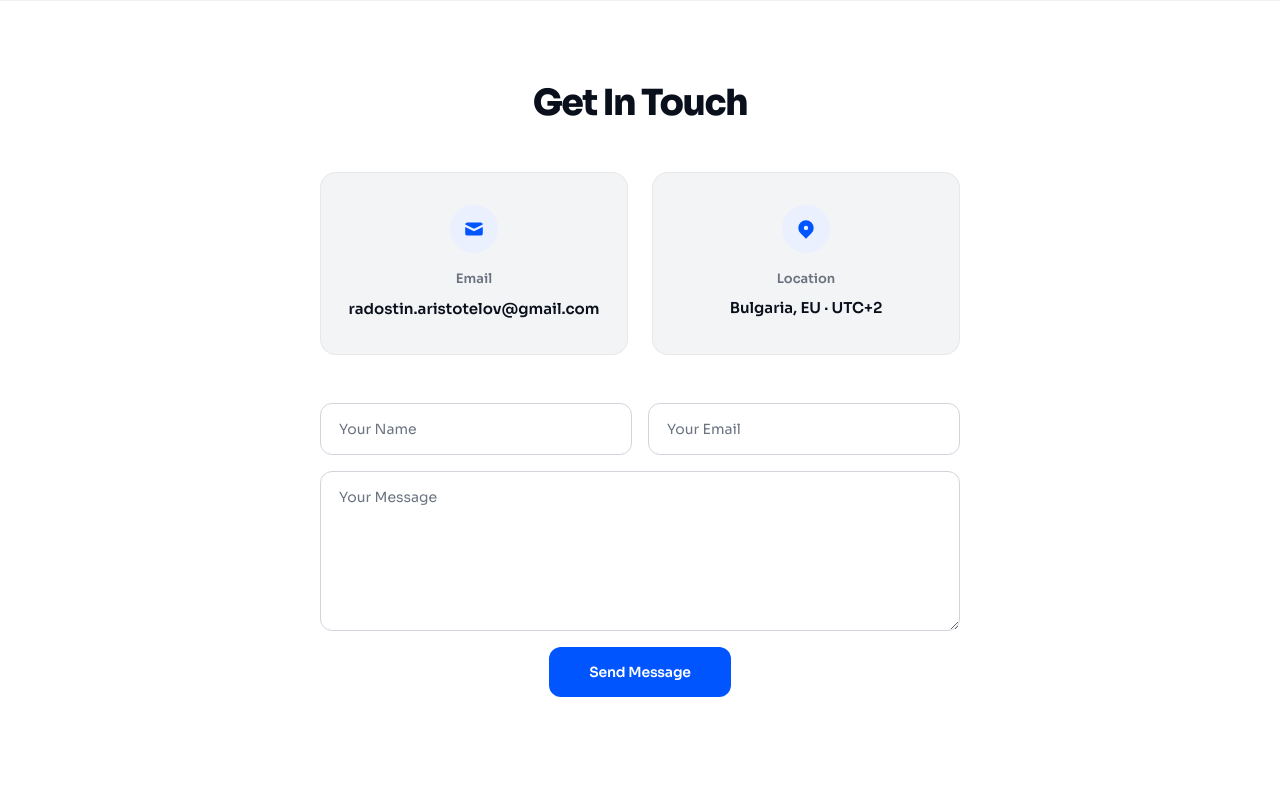
it: Contact form › valid submission › clears the success alert when the message is edited
Type "Ada Lovelace" into the field labelled "Your Name" at [476, 429], box [320,403,632,455]
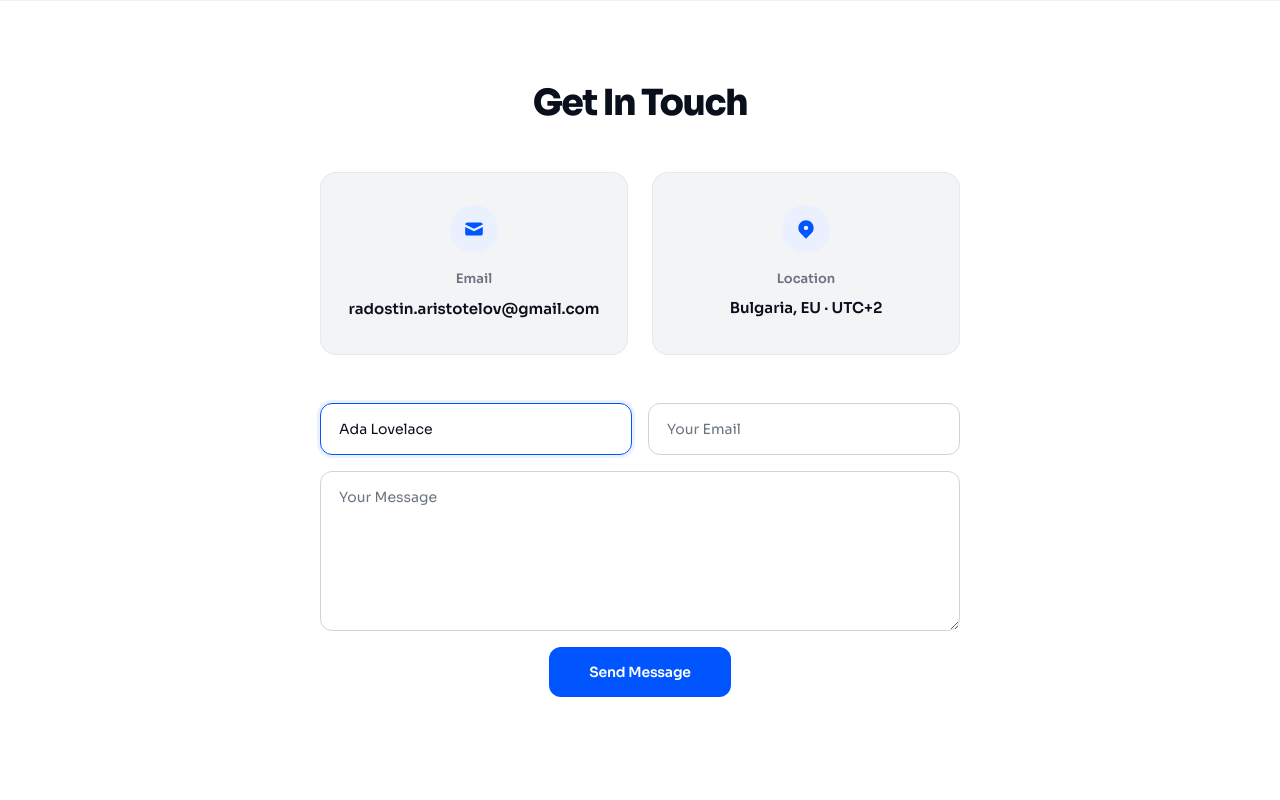
Type "ada@example.com" into the field labelled "Your Email" at [804, 429], box [648,403,960,455]
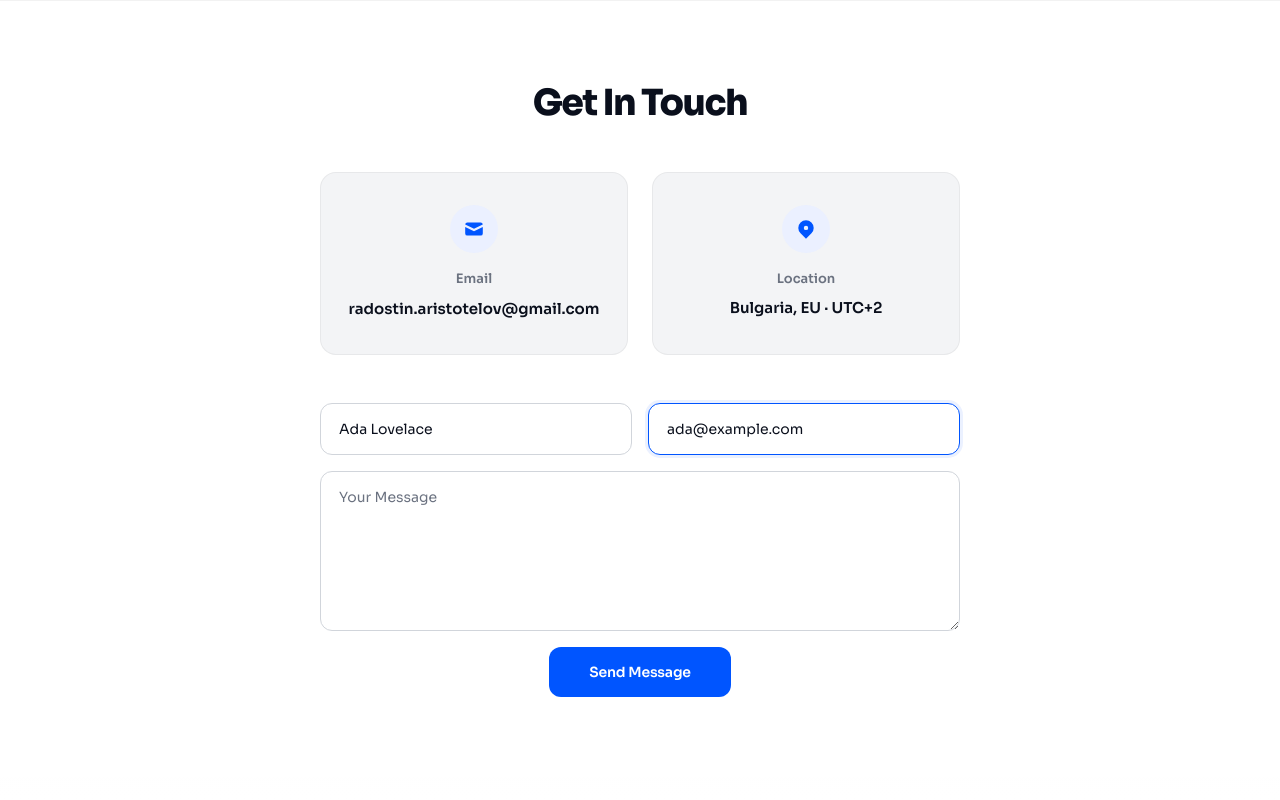
Type "Hello there" into the text box labelled "Your Message" at [640, 551], box [320,471,960,631]
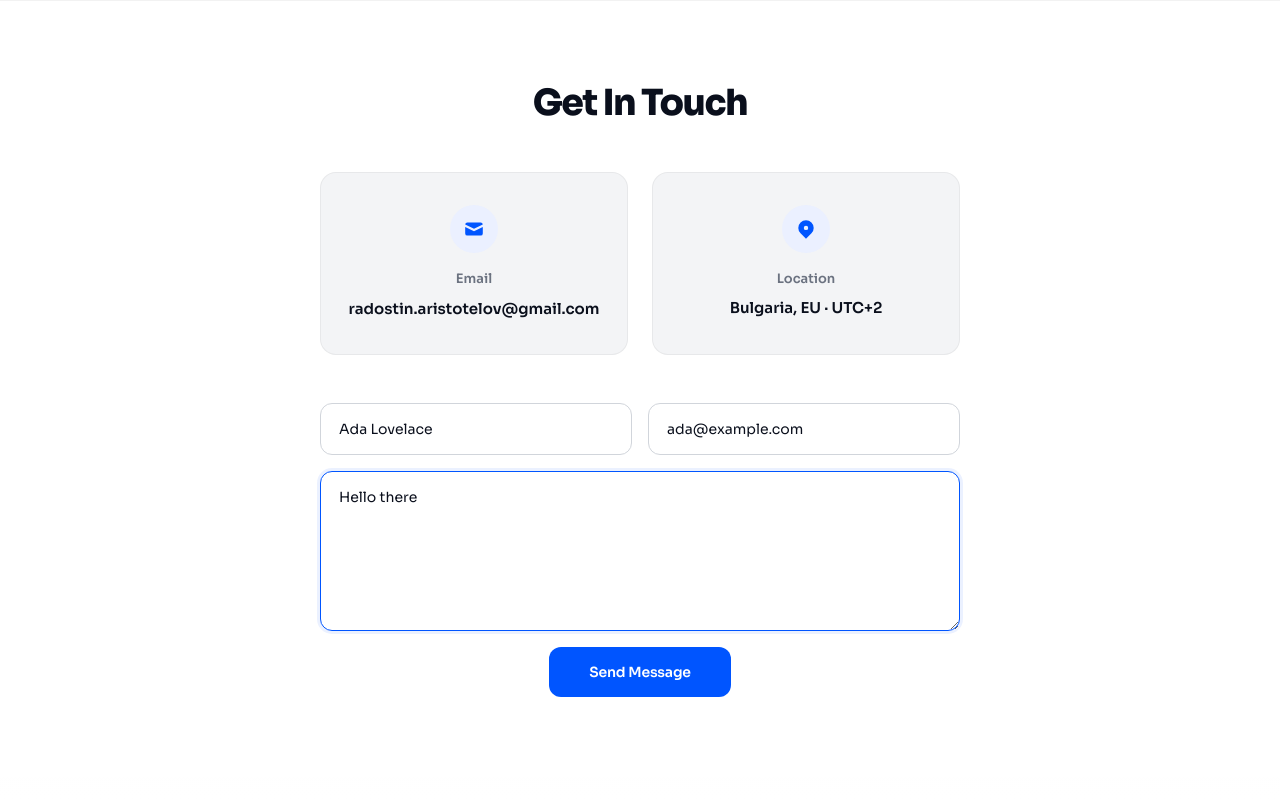
Click the button "Send Message" at [640, 672], box [549,647,731,697]
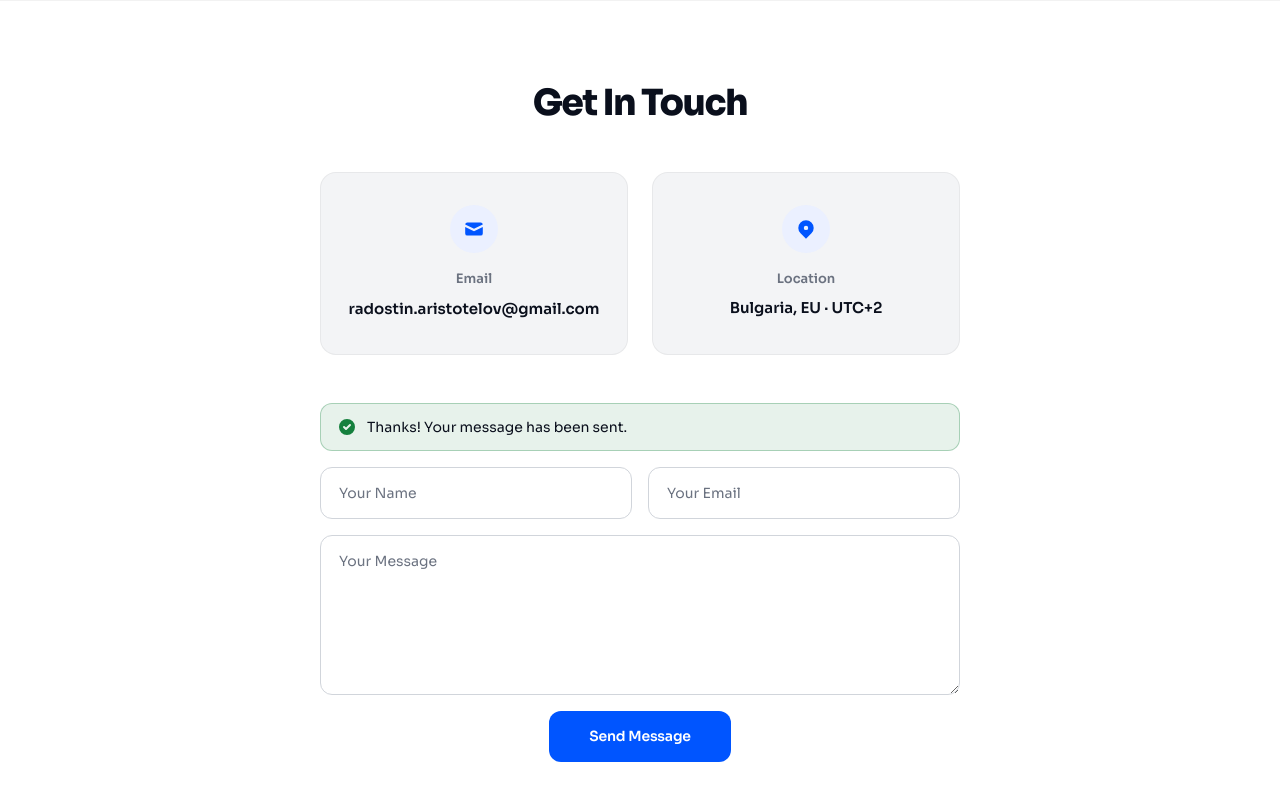
Check: the message "Thanks! Your message has been sent." is shown, box [320,403,960,451]
Type "a" into the text box labelled "Your Message" at [640, 615], box [320,535,960,695]
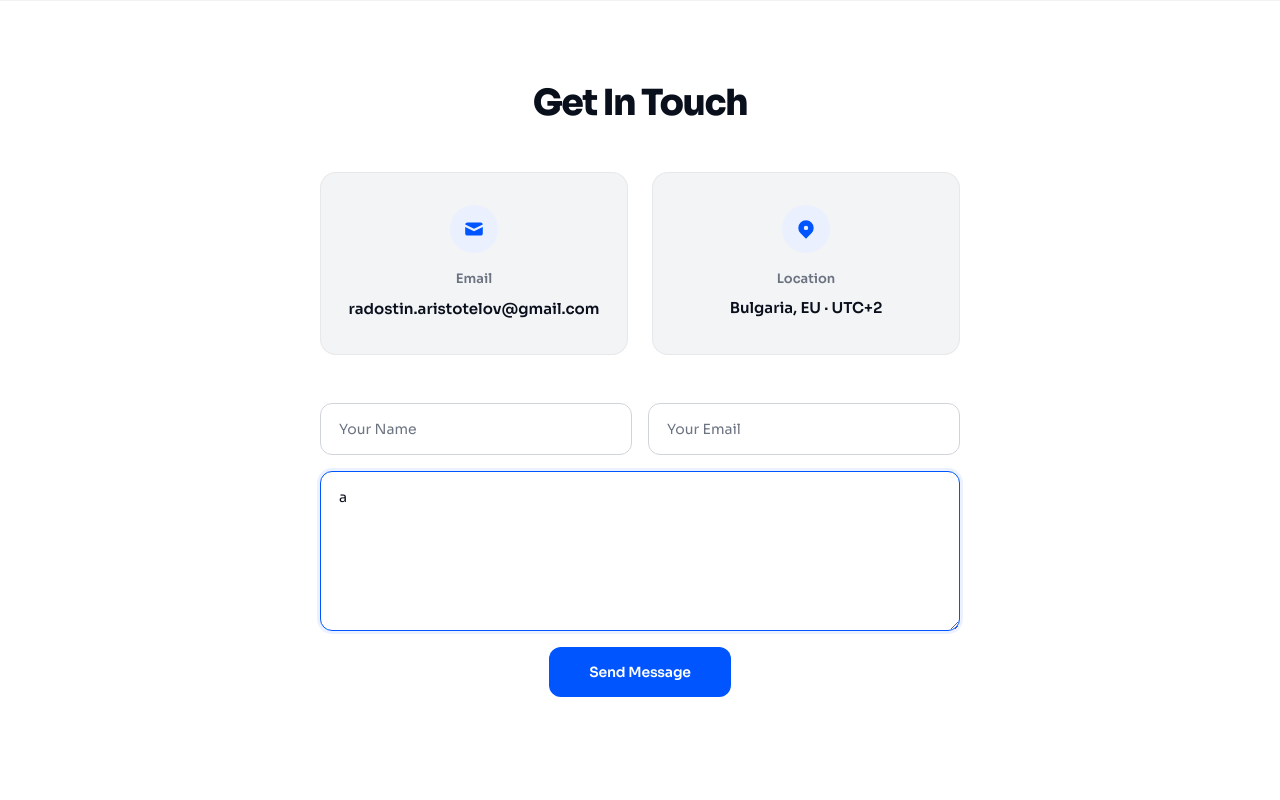
Check: the message "Thanks! Your message has been sent." is gone
